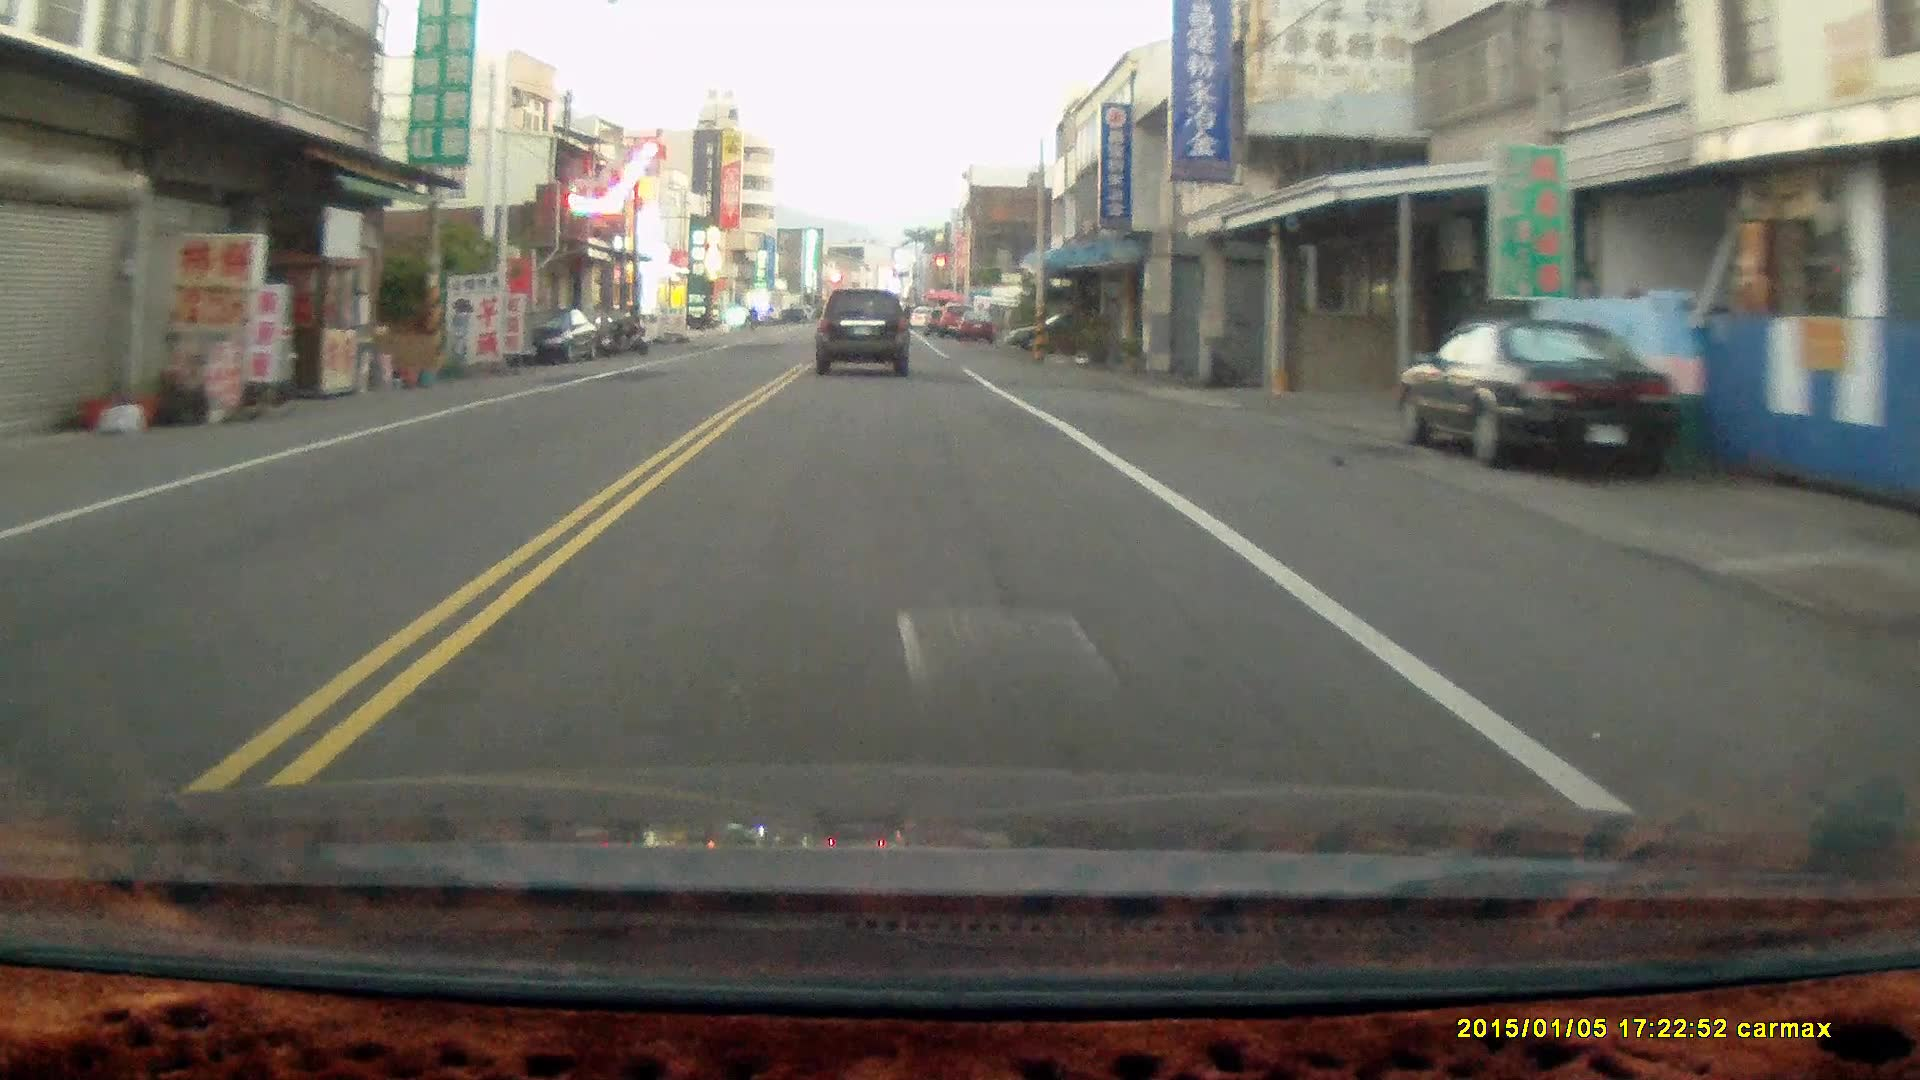vehicle: (1394, 316, 1681, 480), (814, 289, 911, 380)
